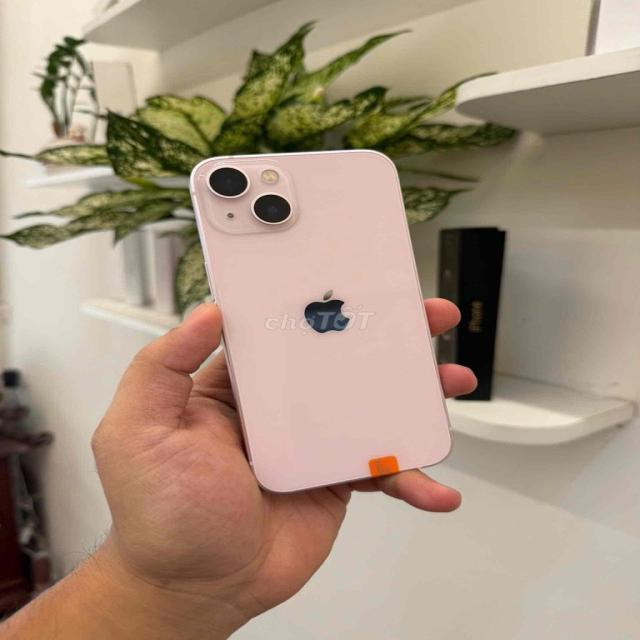gen_12_13: (175, 144, 461, 501)
